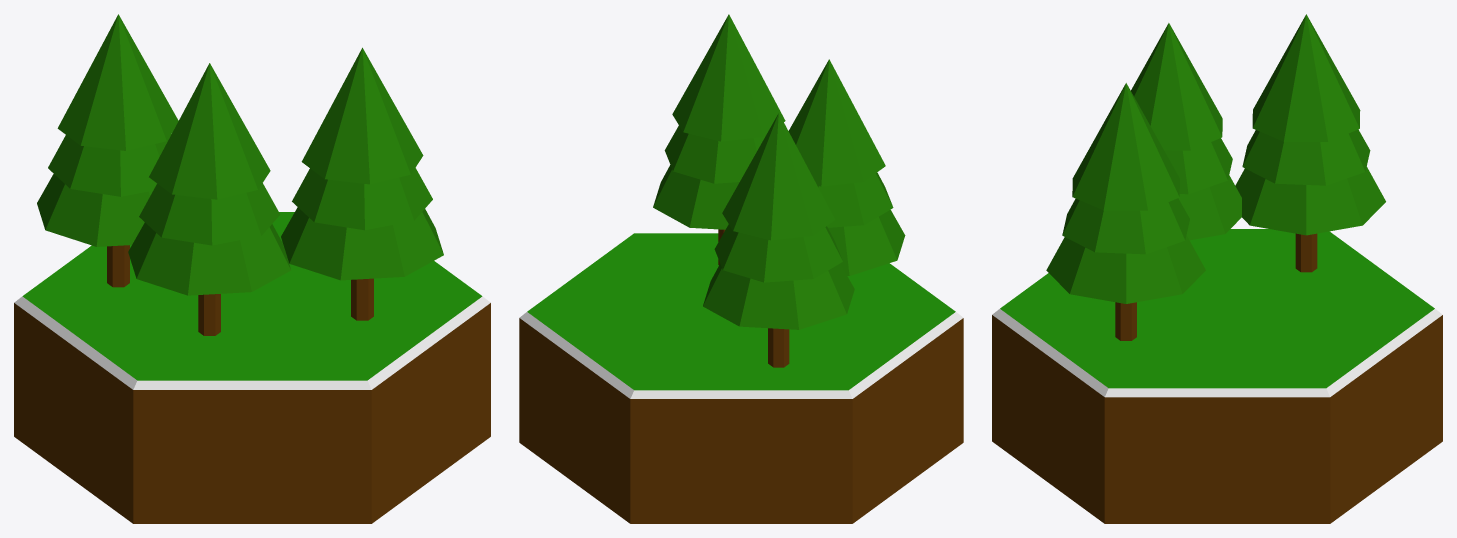
The model's file is altigen_blok_orman.fbx.
3 renders of one model, left to right at view 1: azimuth 30°, elevation 25°; view 2: azimuth 150°, elevation 25°; view 3: azimuth 270°, elevation 25°, orthographic. The views are drawn at different scales.
Visible parts, largest first — view 1: forest_block, trees; view 2: forest_block, trees; view 3: forest_block, trees.
Part boxes in pixels (x1,y1,x2,y2): forest_block: (14,212,490,523); trees: (37,14,443,335); forest_block: (519,233,963,523); trees: (653,14,905,367); forest_block: (992,229,1442,523); trees: (1046,14,1385,340).
Bounding box in the file's own units: 1.73 × 1.9 × 2.
